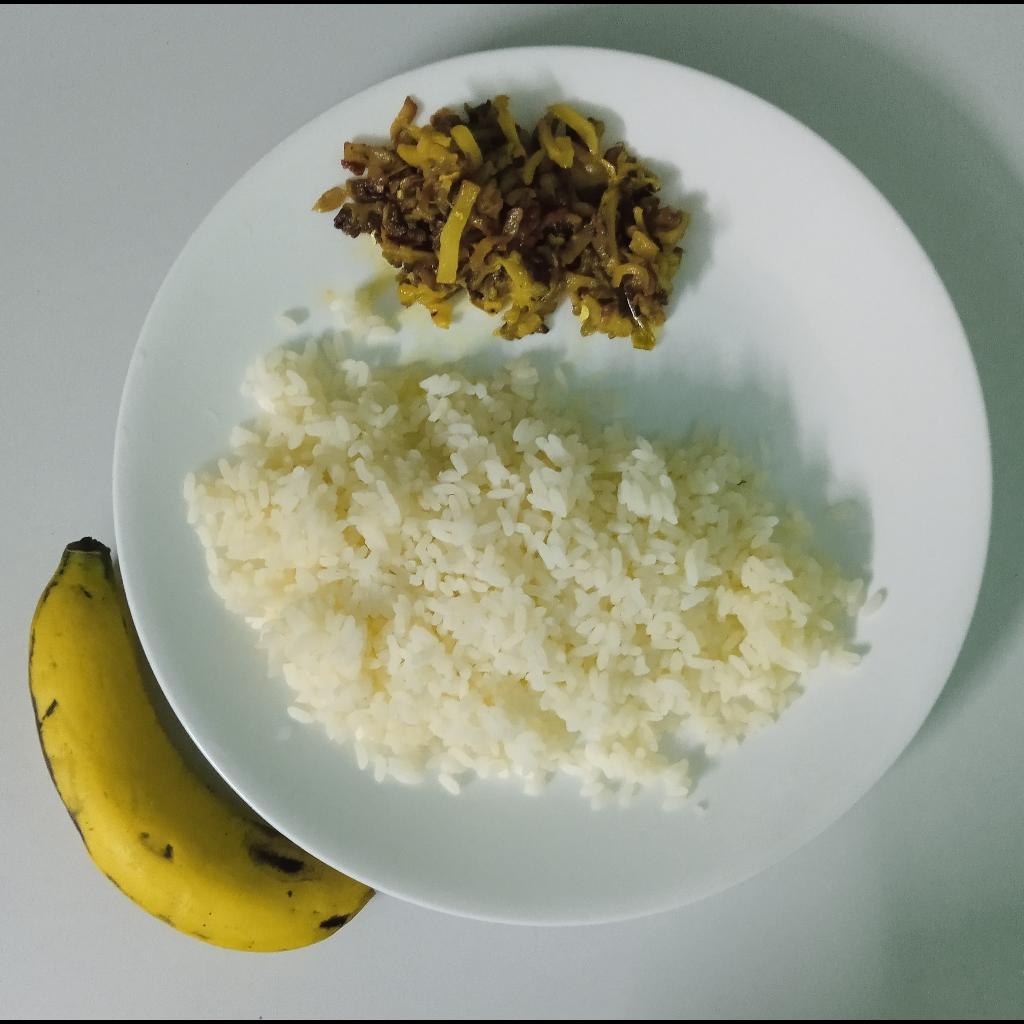banana: (27, 536, 378, 953)
rice: (191, 335, 867, 809)
vegetable: (315, 90, 696, 345)
